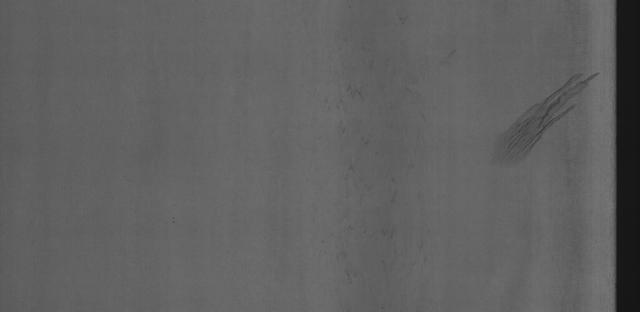silk_spot: (323, 42, 434, 287)
water_spot: (474, 60, 605, 176)
